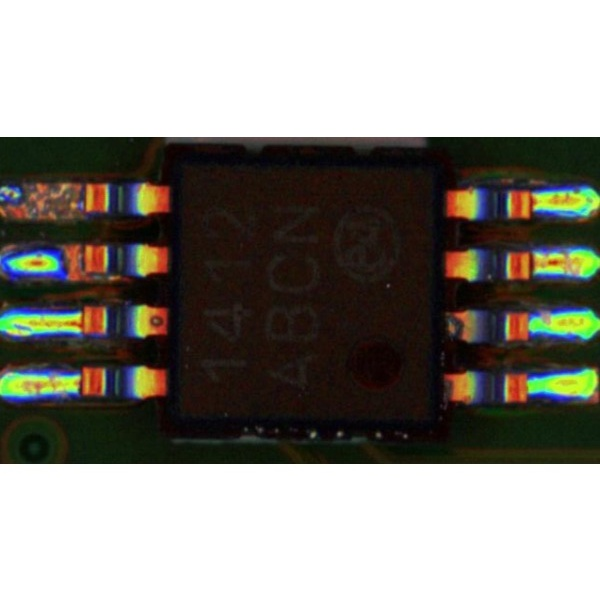Bad_podu: (66, 315, 94, 330), (523, 252, 541, 274), (71, 373, 89, 392), (521, 192, 539, 211)
